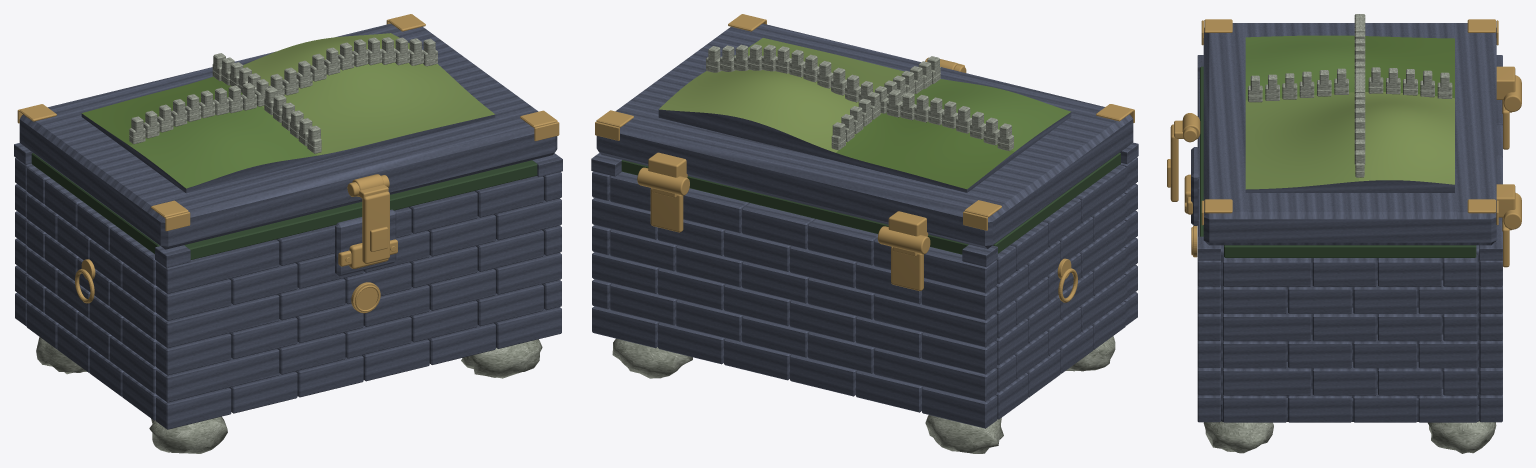
The model's file is united-kingdom.glb.
3 renders of one model, left to right at view 1: azimuth 30°, elevation 25°; view 2: azimuth 150°, elevation 25°; view 3: azimuth 270°, elevation 25°, orthographic.
Visible parts, largest first — view 1: Lid / polished slab, Terrain / walled meadows, Mineral seam / long, Slate / front.030, Slate / front.018, Slate / front.006, Terrain / slate edge, Slate / front, Slate / front.024, Slate / front.012, Granite foot, Granite foot.002 (+54 smaller); view 2: Lid / polished slab, Terrain / walled meadows, Terrain / slate edge, Slate / rear.006, Slate / rear.018, Mineral seam / long.001, Slate / rear.030, Slate / rear.032, Slate / rear.031, Slate / rear.012, Slate / rear, Slate / rear.024 (+59 smaller); view 3: Lid / polished slab, Terrain / walled meadows, Mineral seam / side.001, Slate / side.044, Slate / side.012, Slate / side.028, Terrain / slate edge, Slate / side.045, Slate / side.046, Slate / side.013, Slate / side.022, Slate / side.029 (+45 smaller).
Boxes of the visible parts, <box> form: Lid / polished slab: <box>19,23,557,249</box>; Terrain / walled meadows: <box>82,33,494,188</box>; Mineral seam / long: <box>184,160,537,259</box>; Slate / front.030: <box>156,239,279,293</box>; Slate / front.018: <box>156,294,279,348</box>; Slate / front.006: <box>156,349,279,402</box>; Terrain / slate edge: <box>81,113,495,193</box>; Slate / front: <box>156,387,231,429</box>; Slate / front.024: <box>156,279,231,320</box>; Slate / front.012: <box>156,333,231,375</box>; Granite foot: <box>149,416,227,453</box>; Granite foot.002: <box>461,339,542,378</box>; Lid / polished slab: <box>596,23,1133,248</box>; Terrain / walled meadows: <box>659,38,1070,189</box>; Terrain / slate edge: <box>658,109,1071,192</box>; Slate / rear.006: <box>874,348,997,401</box>; Slate / rear.018: <box>874,294,997,347</box>; Mineral seam / long.001: <box>621,160,968,254</box>; Slate / rear.030: <box>874,238,997,293</box>; Slate / rear.032: <box>742,203,815,249</box>; Slate / rear.031: <box>808,219,877,265</box>; Slate / rear.012: <box>922,332,997,374</box>; Slate / rear: <box>922,386,997,428</box>; Slate / rear.024: <box>922,278,997,320</box>; Lid / polished slab: <box>1203,23,1496,245</box>; Terrain / walled meadows: <box>1245,35,1454,189</box>; Mineral seam / side.001: <box>1224,245,1476,257</box>; Slate / side.044: <box>1223,254,1311,286</box>; Slate / side.012: <box>1223,362,1311,395</box>; Slate / side.028: <box>1223,307,1311,341</box>; Terrain / slate edge: <box>1245,180,1454,192</box>; Slate / side.045: <box>1312,258,1376,286</box>; Slate / side.046: <box>1378,258,1441,286</box>; Slate / side.013: <box>1312,362,1376,395</box>; Slate / side.022: <box>1353,334,1417,368</box>; Slate / side.029: <box>1312,307,1376,341</box>.
Bounding box in the file's own units: 3.79 × 2.77 × 2.88.
Materials: 8 (2 with a texture image).
